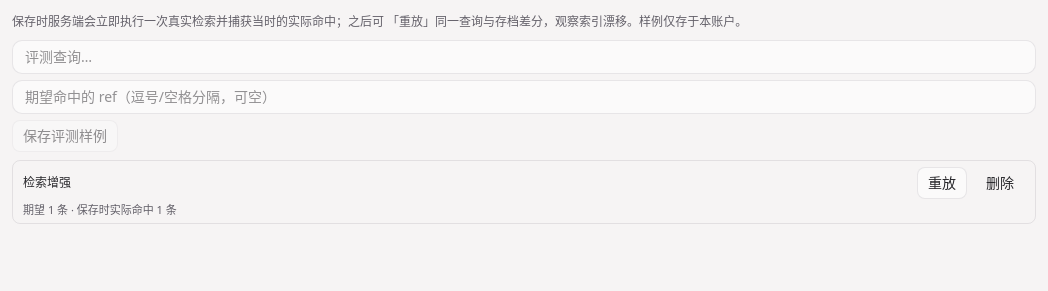
it: N159 评测样例 › 保存样例 → 列表渲染 → 重放差分
Expected: the text "检索增强" is shown, [23,174,71,190]
Click the button "重放".
click(942, 182)  # box [917,166,967,198]
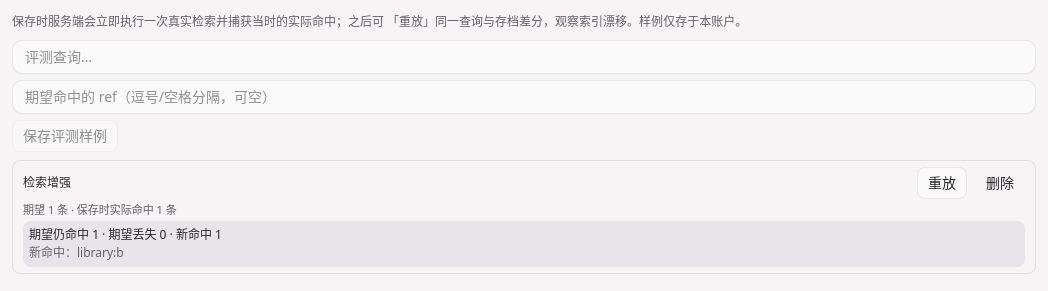
Result: the element showing "期望仍命中 1 · 期望丢失 0 · 新命中 1 新命中：library:b" is shown at [23,221,1025,267]
